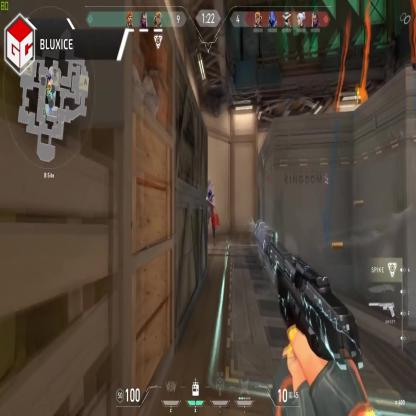enemy: (202, 183, 217, 242)
enemy_head: (208, 186, 212, 196)
